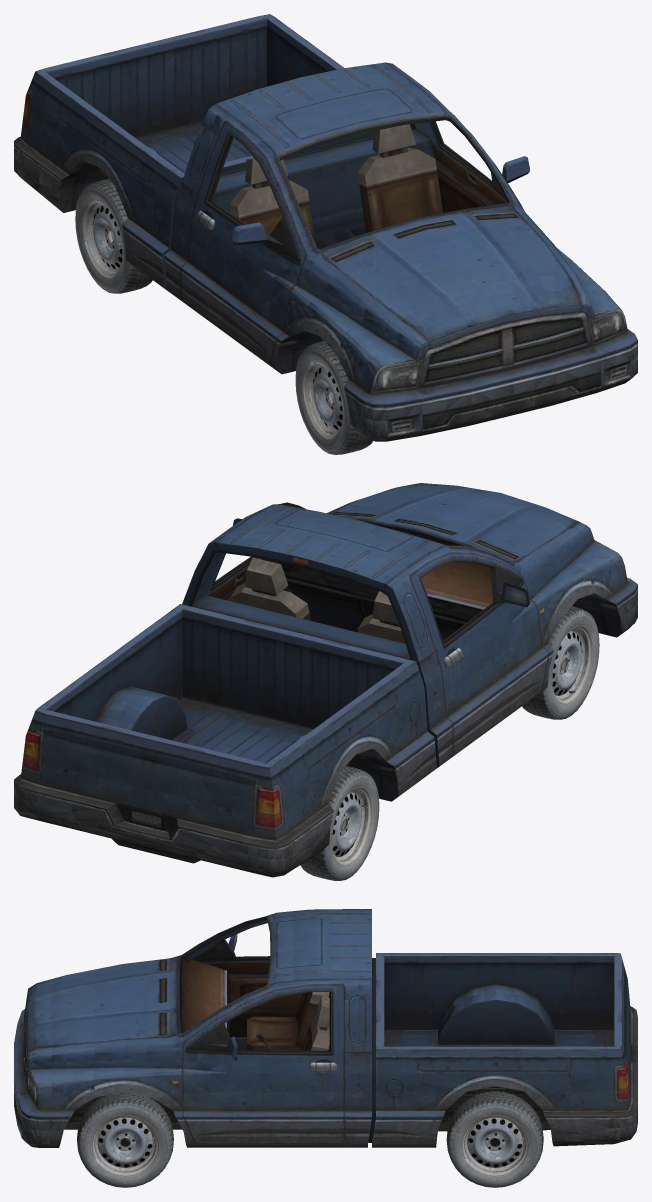
Rendered from free_fire_car_3d_model.glb.
The picture shows the model from 3 angles, top to bottom: view 1: azimuth 30°, elevation 25°; view 2: azimuth 150°, elevation 25°; view 3: azimuth 270°, elevation 25°; orthographic projection. The views are drawn at different scales.
Parts seen in each view (by area): view 1: Car_Body_Material.001_0, FL_Material.002_0; view 2: Car_Body_Material.001_0, FL_Material.002_0; view 3: Car_Body_Material.001_0, FL_Material.002_0.
Boxes of the visible parts, bbox=[...] form: Car_Body_Material.001_0: bbox=[14, 14, 637, 441]; FL_Material.002_0: bbox=[75, 178, 372, 454]; Car_Body_Material.001_0: bbox=[14, 483, 637, 877]; FL_Material.002_0: bbox=[300, 606, 599, 880]; Car_Body_Material.001_0: bbox=[14, 909, 637, 1147]; FL_Material.002_0: bbox=[77, 1091, 543, 1187].
Bounding box in the file's own units: 1.82 × 1.38 × 3.92.
Materials: 2 (2 with a texture image).
